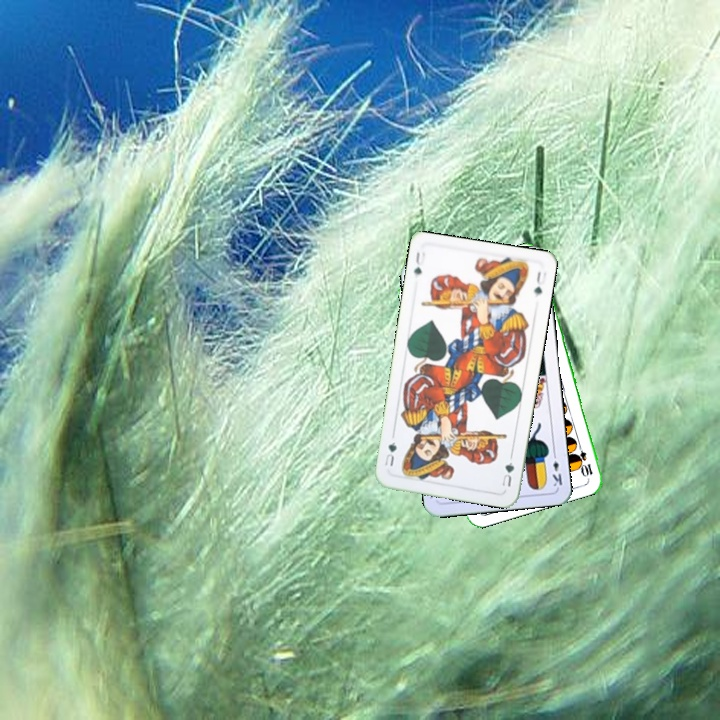E10: (573, 439, 596, 478)
EK: (549, 448, 565, 489)
GU: (497, 458, 517, 489), (410, 247, 428, 278)
